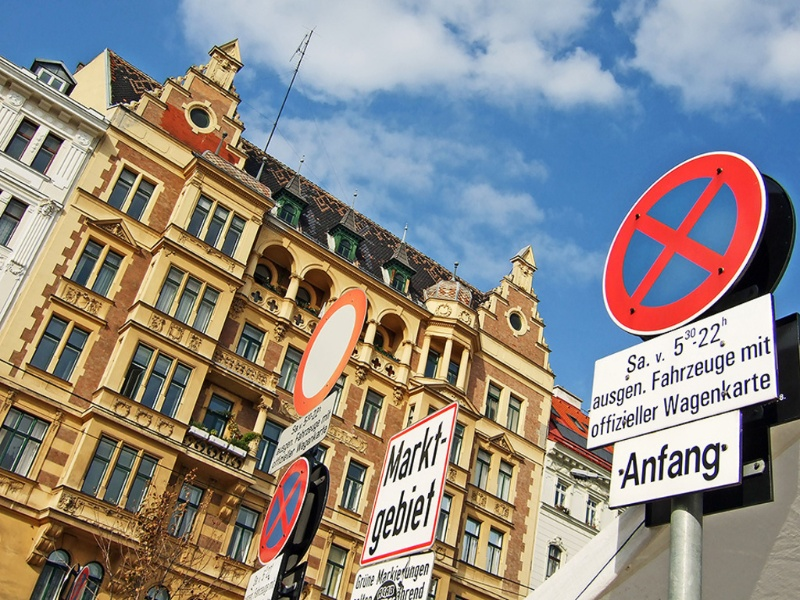no_entry: (595, 143, 768, 337), (257, 454, 311, 563)
